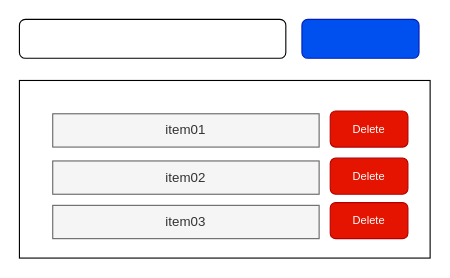
Some shapes in this 450 by 278 pixel diagram are drawn without their labels. The centre of each missing label's shape, as x and y in pixels:
Add: [360,38]
input: [152,38]
